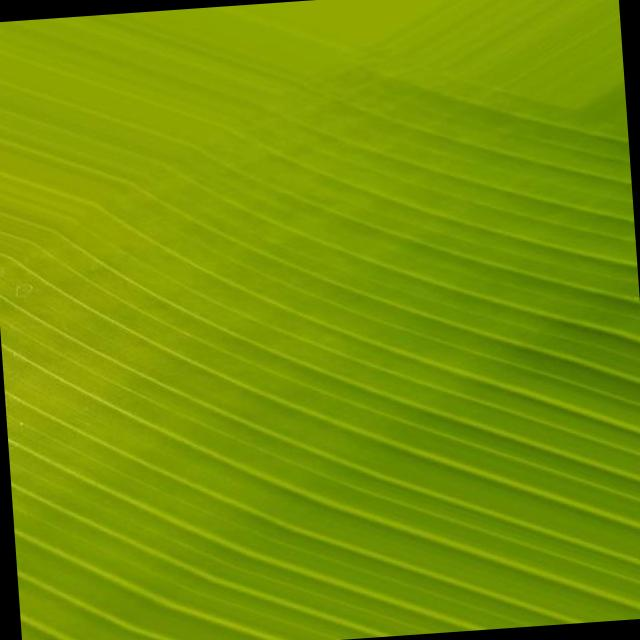Banana_Healthy: (132, 62, 535, 534)
